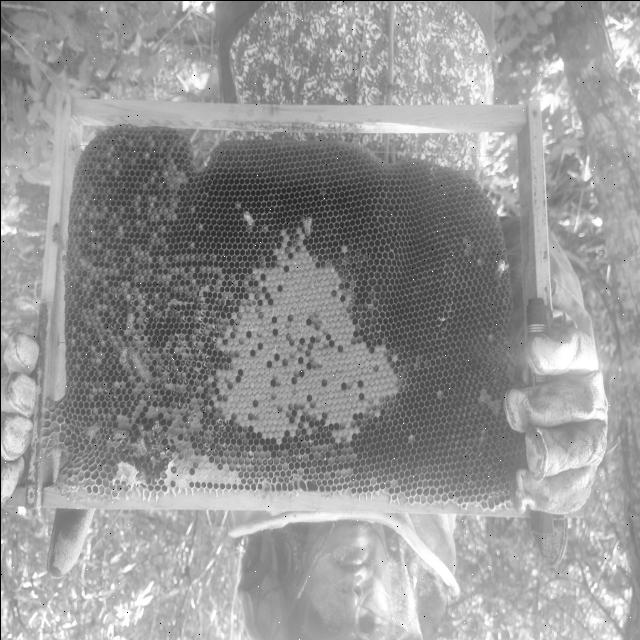cria: (206, 224, 448, 445)
marco: (42, 122, 542, 500)
